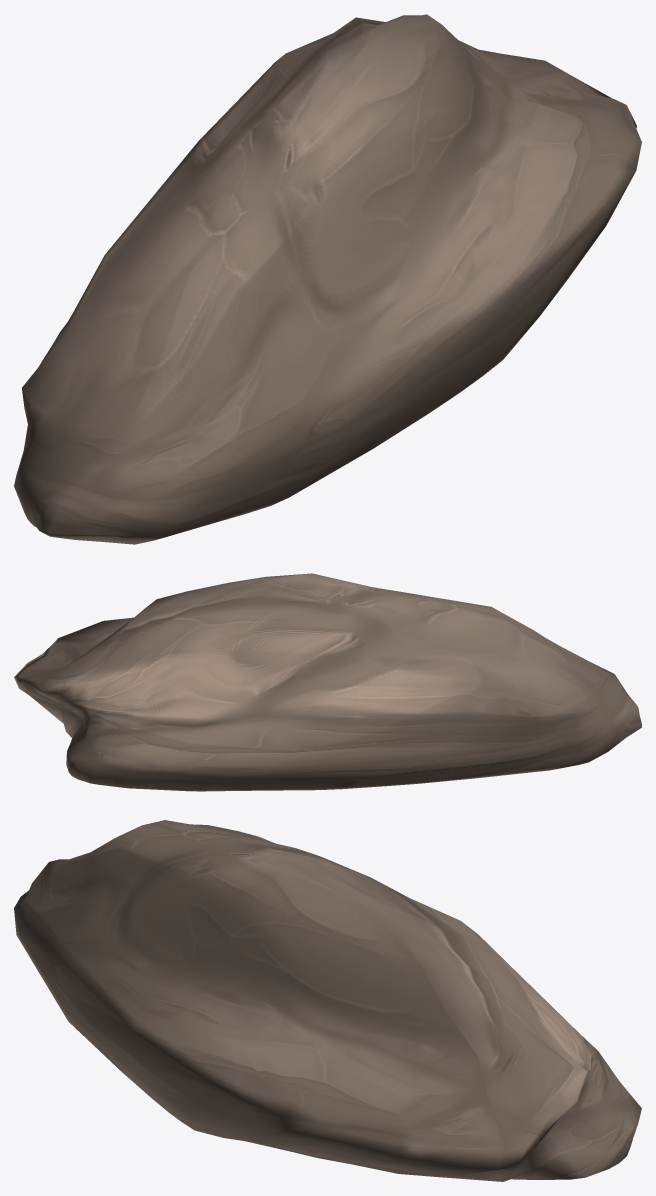
The picture shows the model from 3 angles, top to bottom: view 1: azimuth 30°, elevation 25°; view 2: azimuth 150°, elevation 25°; view 3: azimuth 270°, elevation 25°; orthographic projection. The views are drawn at different scales.
Visible parts, largest first — view 1: ZBrush_defualt_group1; view 2: ZBrush_defualt_group1; view 3: ZBrush_defualt_group1.
Part boxes in pixels (x1=…): ZBrush_defualt_group1: x1=14, y1=14, x2=641, y2=544; ZBrush_defualt_group1: x1=14, y1=573, x2=641, y2=791; ZBrush_defualt_group1: x1=14, y1=820, x2=641, y2=1181.
Bounding box in the file's own units: 3.87 × 1.4 × 3.04.
1 material, 1 textured.
